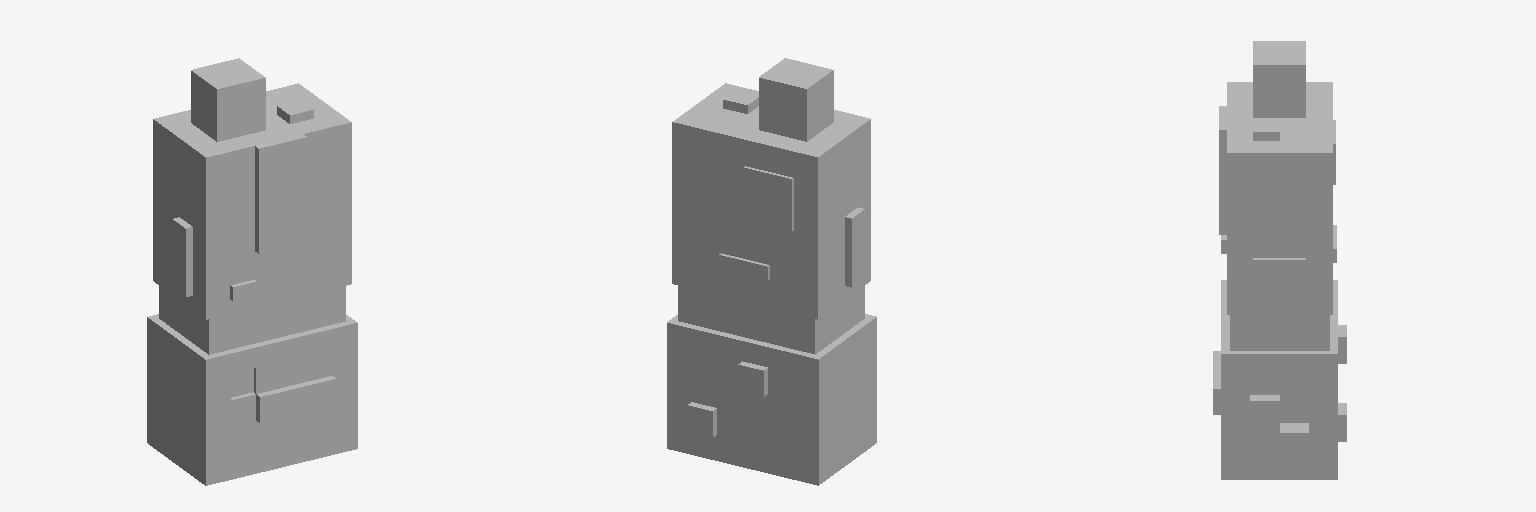
Rendered from box_real_01.obj.
3 renders of one model, left to right at view 1: azimuth 30°, elevation 25°; view 2: azimuth 150°, elevation 25°; view 3: azimuth 270°, elevation 25°, orthographic.
Parts seen in each view (by area): view 1: Cube_Cube; view 2: Cube_Cube; view 3: Cube_Cube.
Boxes of the visible parts, <box> form: Cube_Cube: <box>147,58,357,485</box>; Cube_Cube: <box>667,58,876,485</box>; Cube_Cube: <box>1213,41,1346,479</box>.
Bounding box in the file's own units: 331 × 714 × 229.